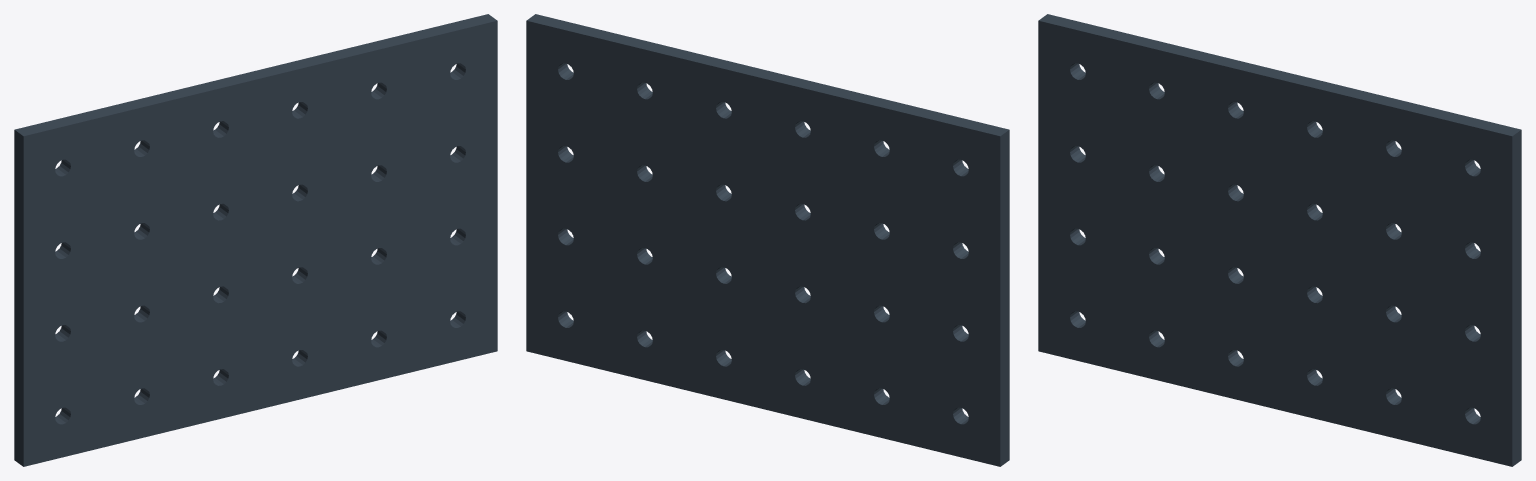
Rendered from kit_plate_120_80.obj.
3 renders of one model, left to right at view 1: azimuth 30°, elevation 25°; view 2: azimuth 150°, elevation 25°; view 3: azimuth 330°, elevation 25°, orthographic.
Parts seen in each view (by area): view 1: kit_plate_120_80; view 2: kit_plate_120_80; view 3: kit_plate_120_80.
Part boxes in pixels (x1,y1,x2,y2): kit_plate_120_80: (14, 14, 497, 466); kit_plate_120_80: (526, 14, 1009, 466); kit_plate_120_80: (1038, 14, 1521, 466).
Bounding box in the file's own units: 0.12 × 0.08 × 0.004.
